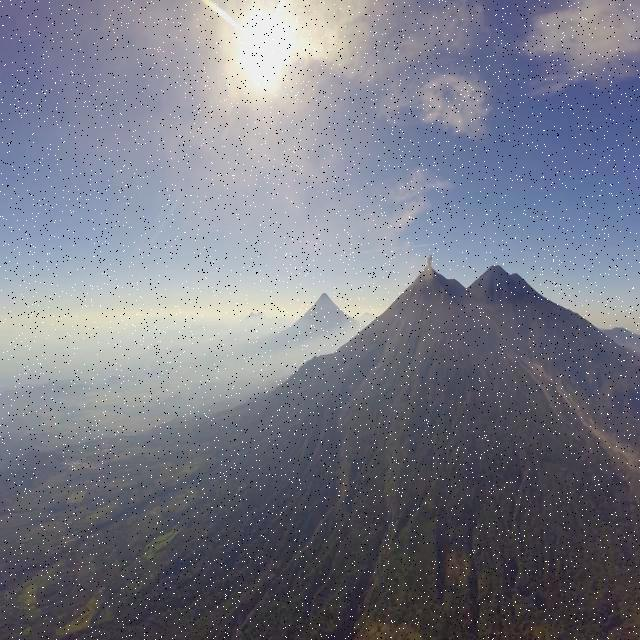Plume: (427, 251, 432, 267)
Summit: (409, 264, 448, 282)
